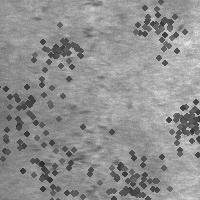rolled-in_scale: (3, 122, 121, 200), (0, 56, 73, 168), (32, 102, 120, 189), (87, 134, 175, 200), (117, 0, 200, 69), (52, 25, 105, 92), (30, 18, 88, 76), (155, 88, 200, 156)
